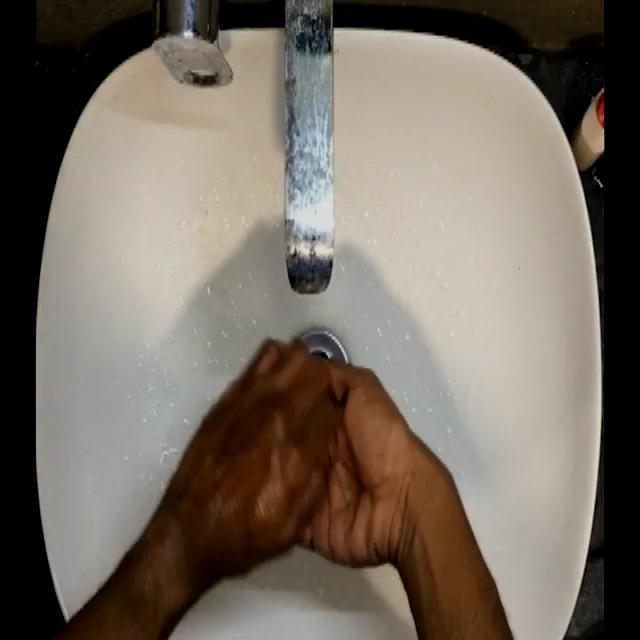step_4: (169, 322, 417, 568)
